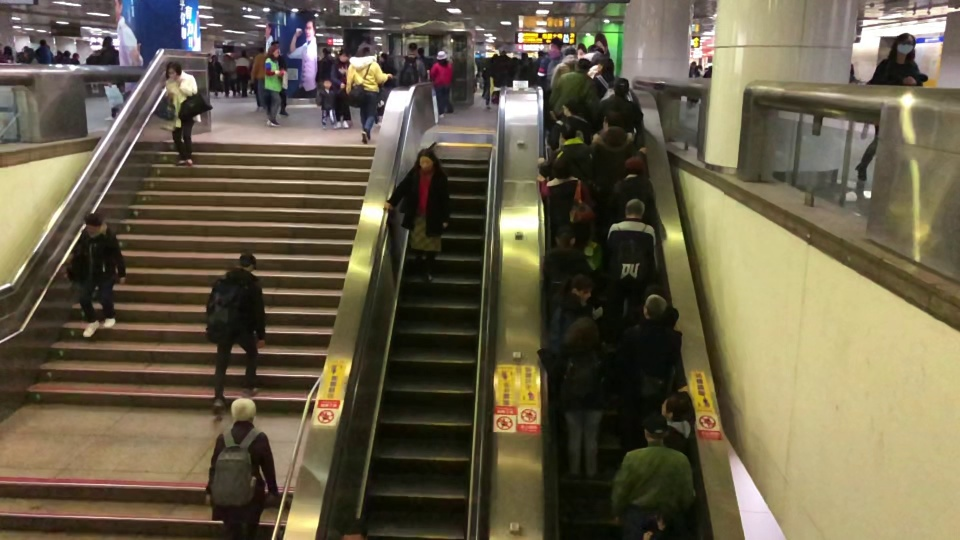person_head: (615, 501, 648, 540), (565, 316, 600, 351), (659, 393, 691, 423), (653, 501, 683, 531), (640, 412, 669, 443), (641, 293, 668, 321), (569, 273, 593, 304), (229, 397, 257, 423), (553, 224, 576, 252), (340, 518, 369, 540), (891, 32, 916, 55), (415, 148, 437, 172), (623, 197, 645, 220), (602, 110, 625, 131), (551, 157, 572, 180), (623, 154, 644, 177), (237, 251, 258, 271), (84, 212, 103, 234), (613, 76, 630, 99), (561, 98, 579, 117), (165, 61, 182, 79), (354, 42, 373, 58), (574, 57, 591, 74), (560, 121, 576, 139), (548, 36, 564, 52), (600, 57, 615, 74), (267, 46, 279, 61), (338, 48, 350, 63), (608, 76, 620, 91), (590, 53, 604, 65), (436, 49, 447, 64), (587, 43, 603, 53), (101, 36, 114, 48), (406, 42, 417, 55), (563, 46, 576, 57), (22, 47, 34, 58), (270, 40, 280, 52), (321, 47, 332, 57), (379, 52, 389, 62), (3, 45, 12, 56), (322, 79, 331, 90), (520, 52, 528, 63), (416, 47, 425, 56), (38, 39, 47, 47), (222, 54, 231, 62), (257, 46, 265, 55), (689, 61, 697, 69), (72, 52, 79, 60), (210, 54, 218, 61), (240, 50, 247, 58), (484, 57, 491, 65), (63, 50, 70, 57), (499, 49, 506, 56), (56, 49, 62, 56), (538, 50, 544, 57), (707, 65, 712, 72)
person_vbox: (536, 316, 614, 481), (854, 32, 928, 182), (203, 397, 280, 540), (614, 293, 683, 448), (609, 412, 697, 528), (209, 251, 267, 416), (382, 148, 451, 284), (600, 197, 657, 356), (66, 212, 126, 338), (536, 157, 595, 250), (345, 42, 393, 144), (547, 273, 603, 355), (604, 154, 658, 236), (543, 223, 593, 310), (591, 110, 648, 181), (165, 61, 201, 166), (536, 121, 596, 183), (548, 57, 600, 124), (597, 75, 644, 146), (85, 36, 119, 120), (536, 36, 564, 130), (547, 98, 591, 150), (659, 392, 691, 462), (642, 501, 698, 540), (330, 47, 352, 128), (262, 46, 284, 126), (429, 49, 454, 118), (270, 39, 289, 117), (316, 79, 344, 131), (395, 42, 426, 86), (550, 46, 578, 90), (250, 46, 266, 111), (592, 57, 615, 99), (491, 49, 515, 88), (314, 46, 333, 87), (220, 54, 237, 98), (515, 52, 536, 87), (235, 50, 250, 98), (481, 57, 494, 110), (208, 54, 223, 97), (379, 52, 396, 88), (686, 61, 699, 108), (600, 76, 620, 101), (33, 38, 52, 64), (586, 53, 604, 79), (580, 43, 603, 62), (416, 48, 432, 71), (22, 47, 39, 63), (532, 50, 544, 72), (2, 45, 16, 63), (52, 49, 62, 64), (62, 50, 71, 64), (703, 65, 713, 77), (71, 51, 80, 64)
